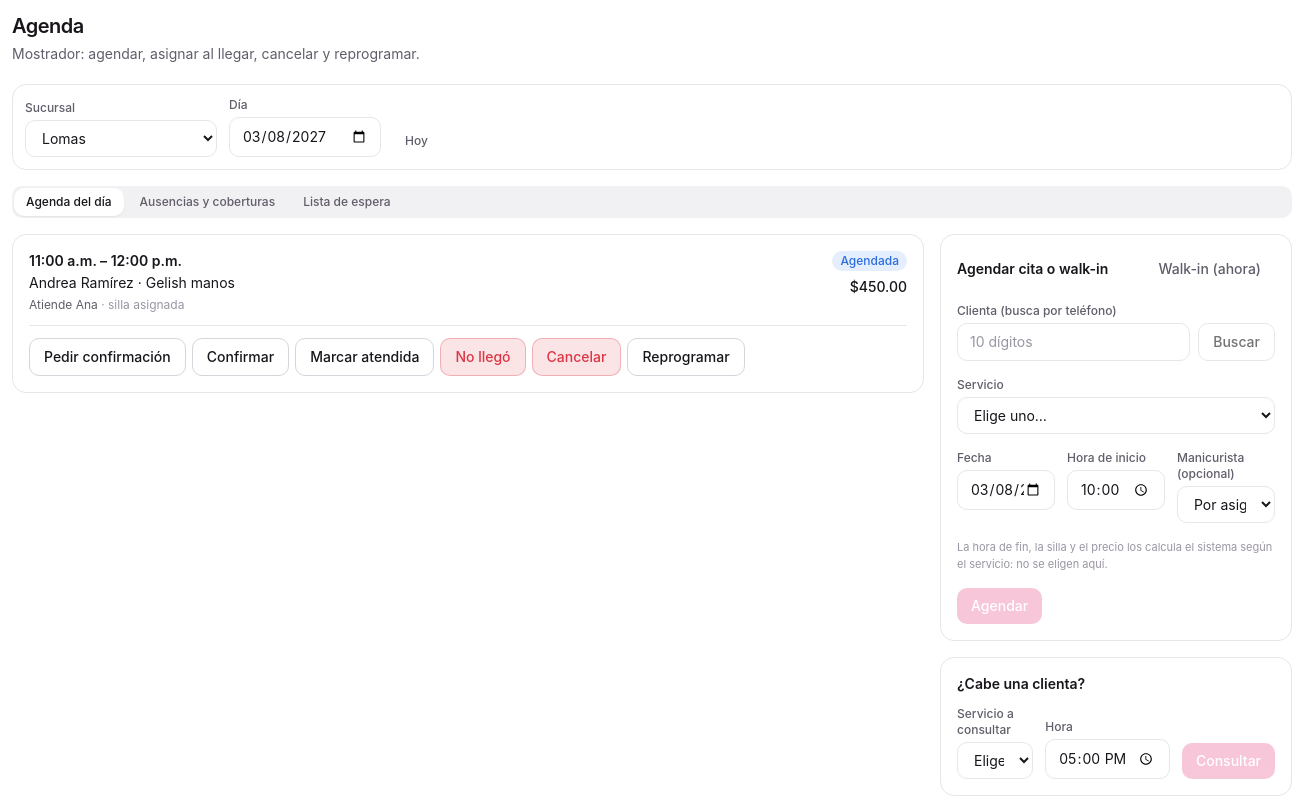
Test: Agenda Operativa — cancelar con confirmación consciente › muestra el RESUMEN con `incidenteTardio` y `anticipoRetenido`
This screenshot has width=1292, height=812.
Click the button "Cancelar". click: click(576, 357)
box: [532, 338, 621, 376]
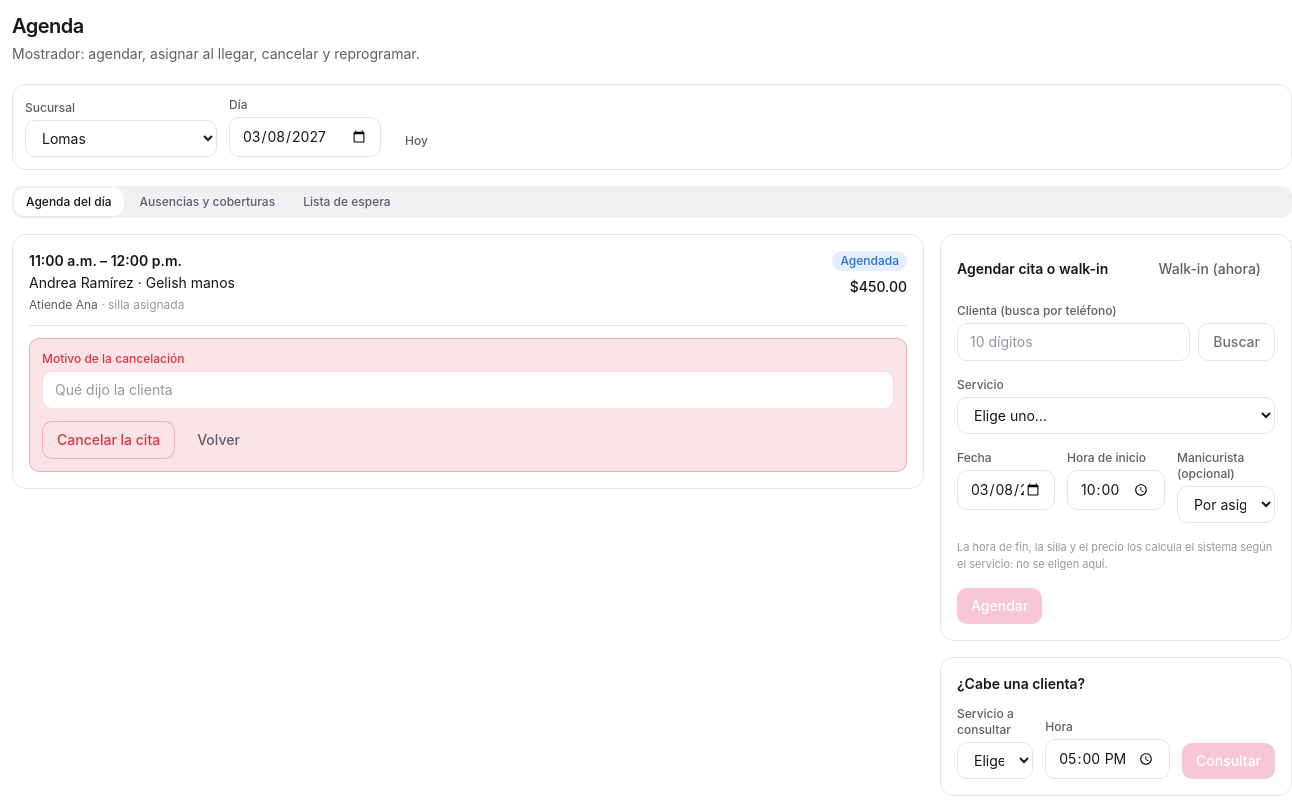
Click the button "Cancelar la cita". click: click(109, 440)
box: [42, 421, 175, 459]
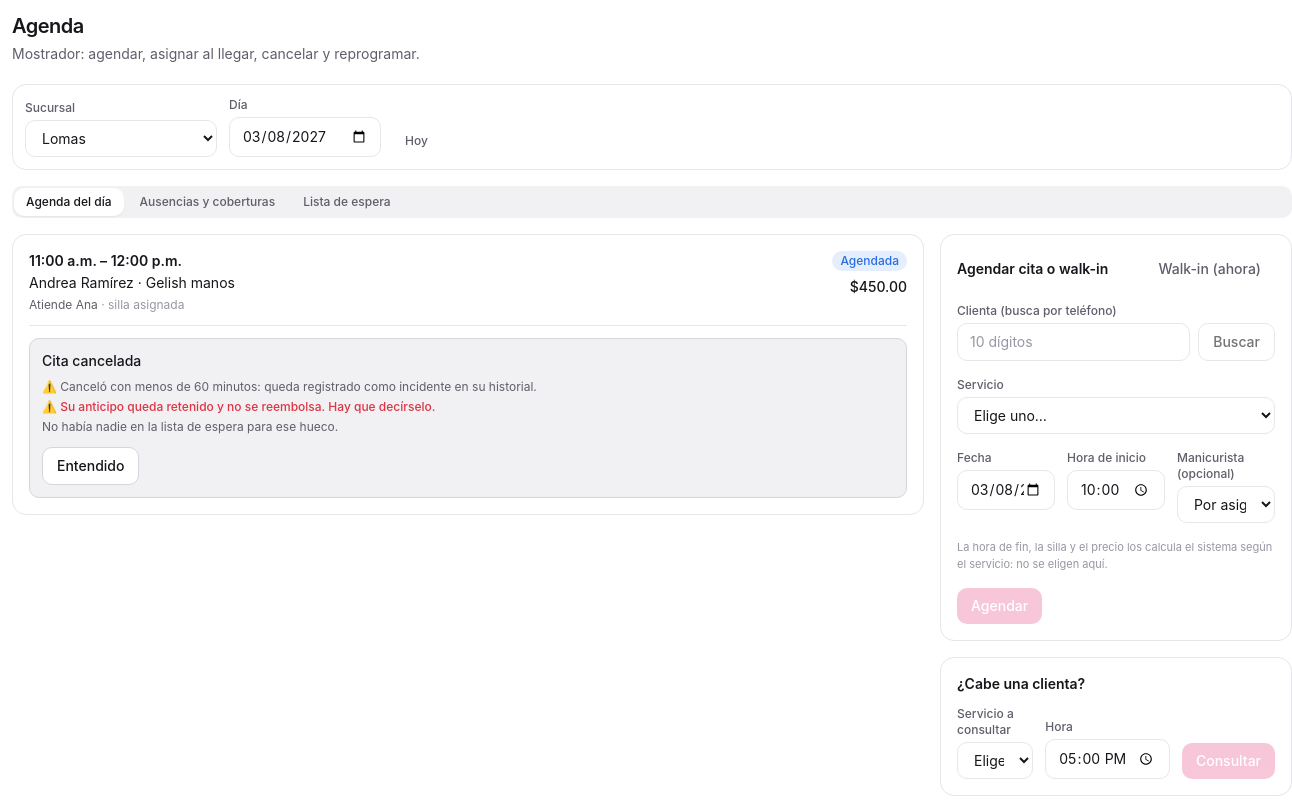
Now the message shows "menos de 60 minutos: queda registrado como incidente", box [42, 379, 537, 394]
Now the message shows "anticipo queda retenido y no se reembolsa", box [42, 399, 435, 414]
